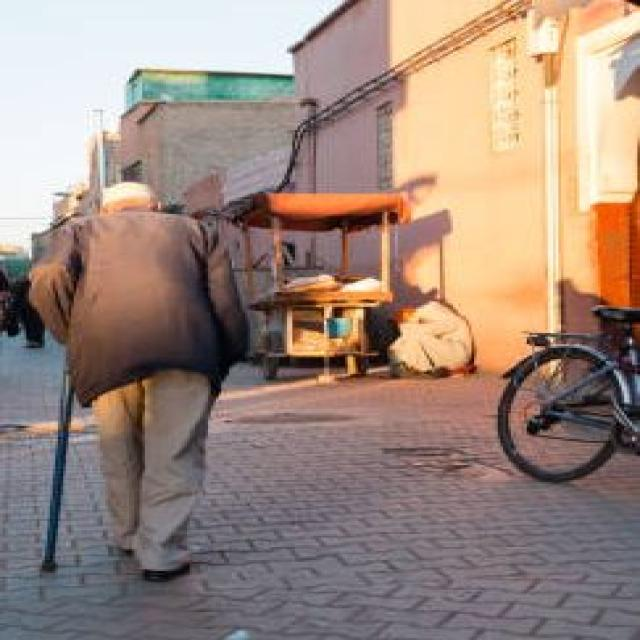idoso em pe: (12, 182, 279, 581)
